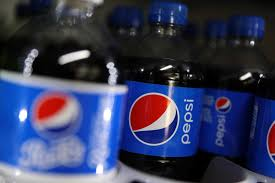Copy of Pepsi: (202, 26, 264, 177)
Pepsi: (128, 7, 199, 181)
